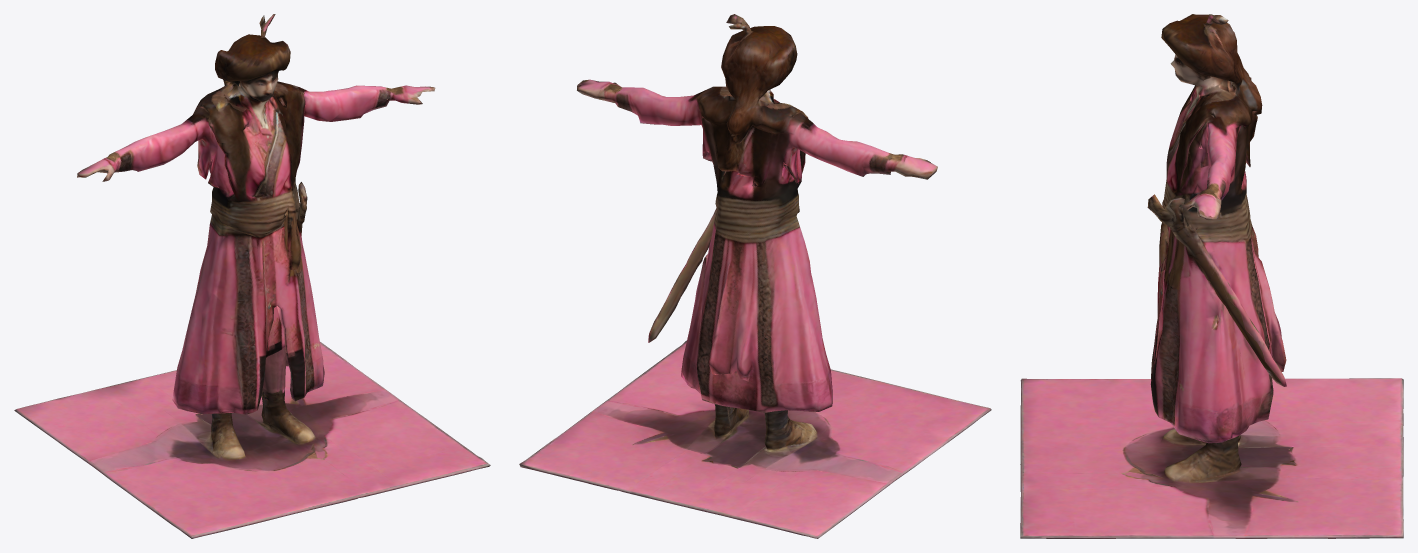
File: Warrior_in_Pink_Robe_0101190545_texture.fbx
3 renders of one model, left to right at view 1: azimuth 30°, elevation 25°; view 2: azimuth 150°, elevation 25°; view 3: azimuth 270°, elevation 25°, orthographic. The views are drawn at different scales.
Parts seen in each view (by area): view 1: Mesh1_Mesh1.108; view 2: Mesh1_Mesh1.108; view 3: Mesh1_Mesh1.108.
Part boxes in pixels (x1,y1,x2,y2): Mesh1_Mesh1.108: (14, 14, 490, 538); Mesh1_Mesh1.108: (519, 14, 991, 538); Mesh1_Mesh1.108: (1020, 14, 1403, 538).
Bounding box in the file's own units: 178 × 201 × 152.
1 material, 1 textured.
